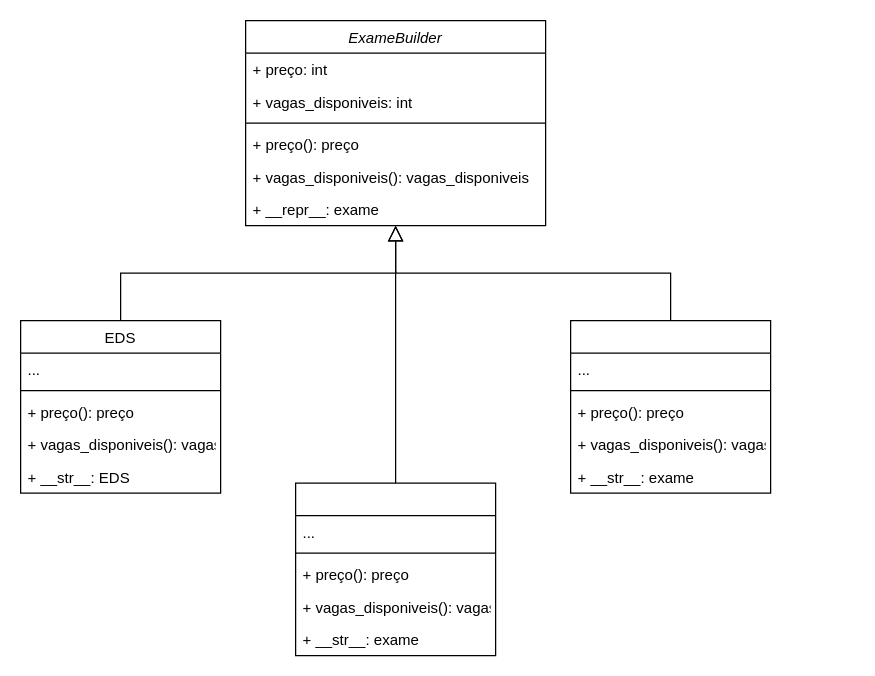
Some shapes in this 875 by 676 pixel diagram are drawn without their labels. The shapes that lost their labels are listed below. From the top down, each one's box as (x1, y1, x2, y2) in pixels, then its label:
(569, 319, 771, 493): EDV
(294, 482, 496, 656): EDC
